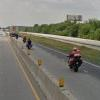Motorcycle: (61, 46, 90, 78)
